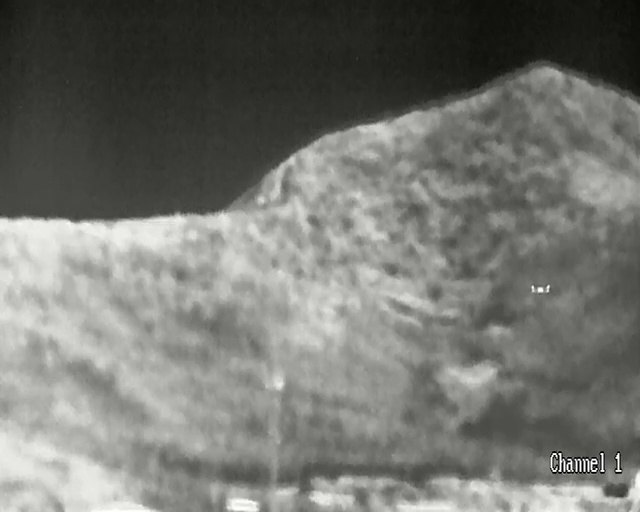uav: (530, 284, 549, 293)
